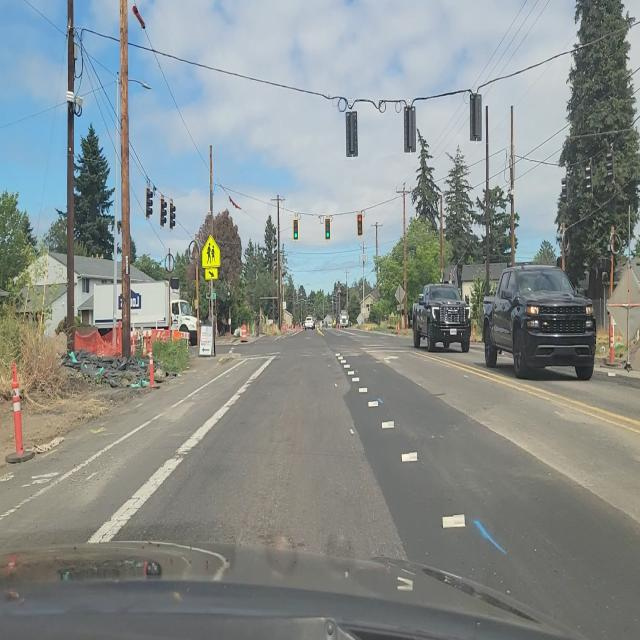car: (482, 264, 597, 380), (408, 284, 469, 354), (304, 316, 314, 331), (340, 315, 349, 328)
delineator: (7, 363, 34, 463), (202, 235, 221, 278), (148, 348, 156, 388), (609, 317, 614, 364), (142, 330, 148, 358), (240, 324, 248, 342), (273, 324, 277, 335), (295, 322, 299, 330)
